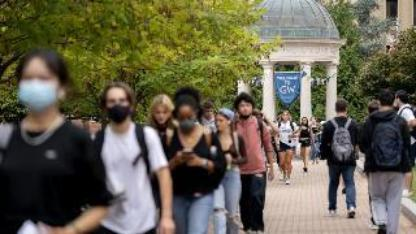bag: (363, 117, 407, 172), (328, 116, 357, 169)
person: (0, 43, 111, 234), (94, 76, 176, 233), (165, 87, 218, 234), (363, 86, 414, 234), (319, 96, 363, 221)
